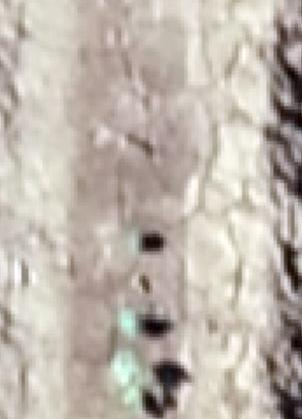cotton: (120, 360, 142, 385), (122, 311, 139, 333), (133, 227, 142, 253), (134, 390, 142, 408)
